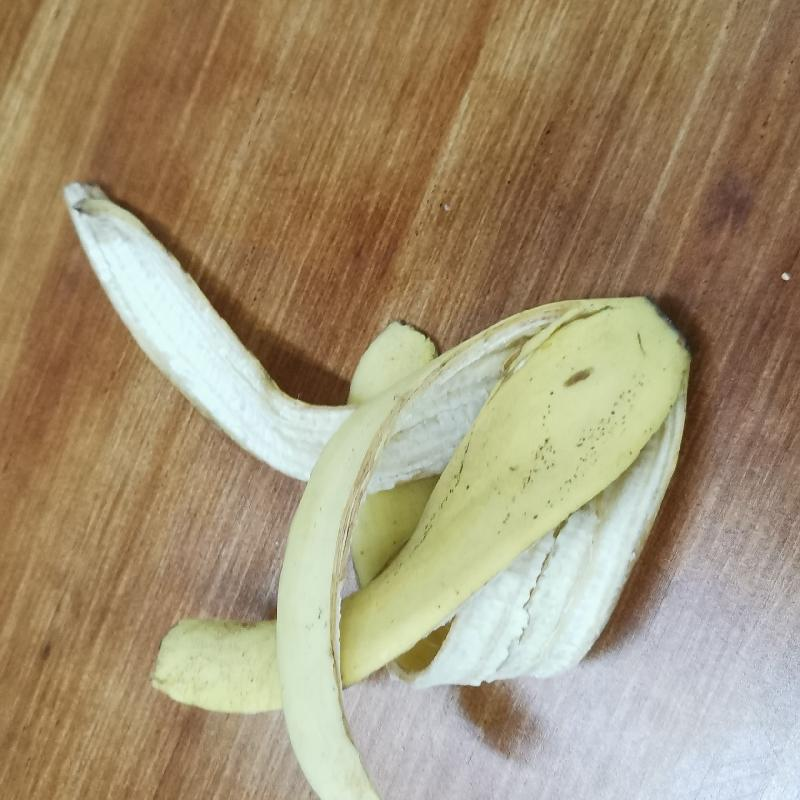bananas: (54, 173, 707, 800)
